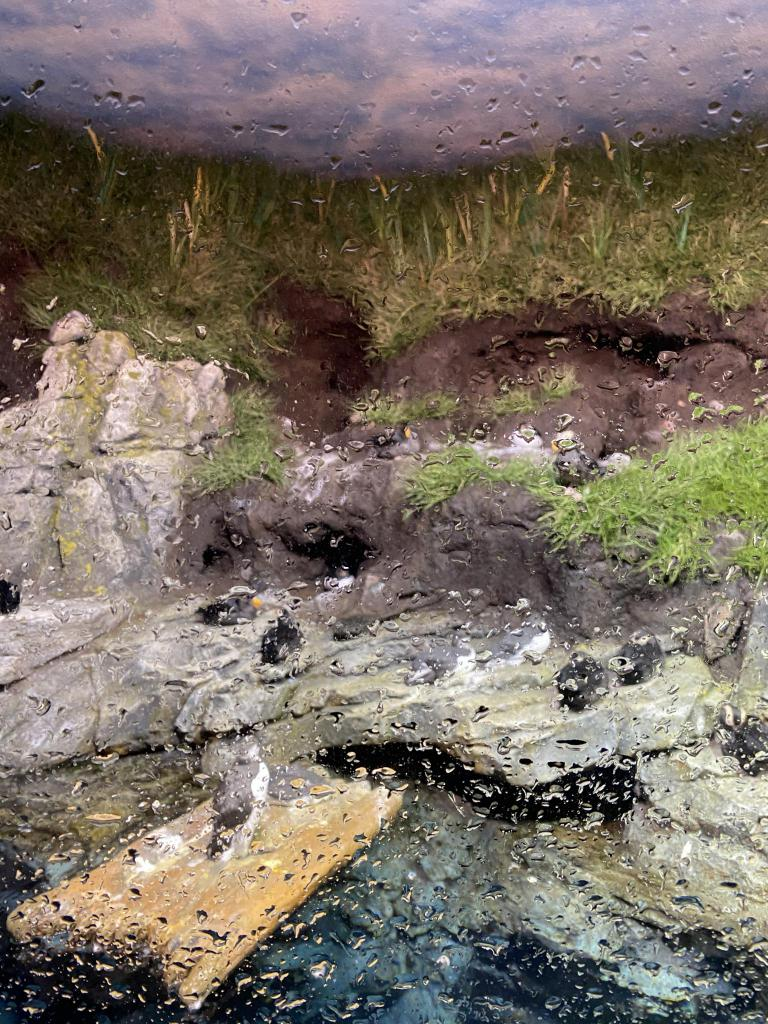puffin: (206, 742, 274, 862), (608, 629, 664, 685), (718, 706, 768, 768), (555, 650, 607, 706), (264, 763, 332, 805), (194, 590, 262, 626), (260, 608, 302, 662), (554, 438, 602, 484), (370, 424, 420, 458), (322, 564, 354, 592)
